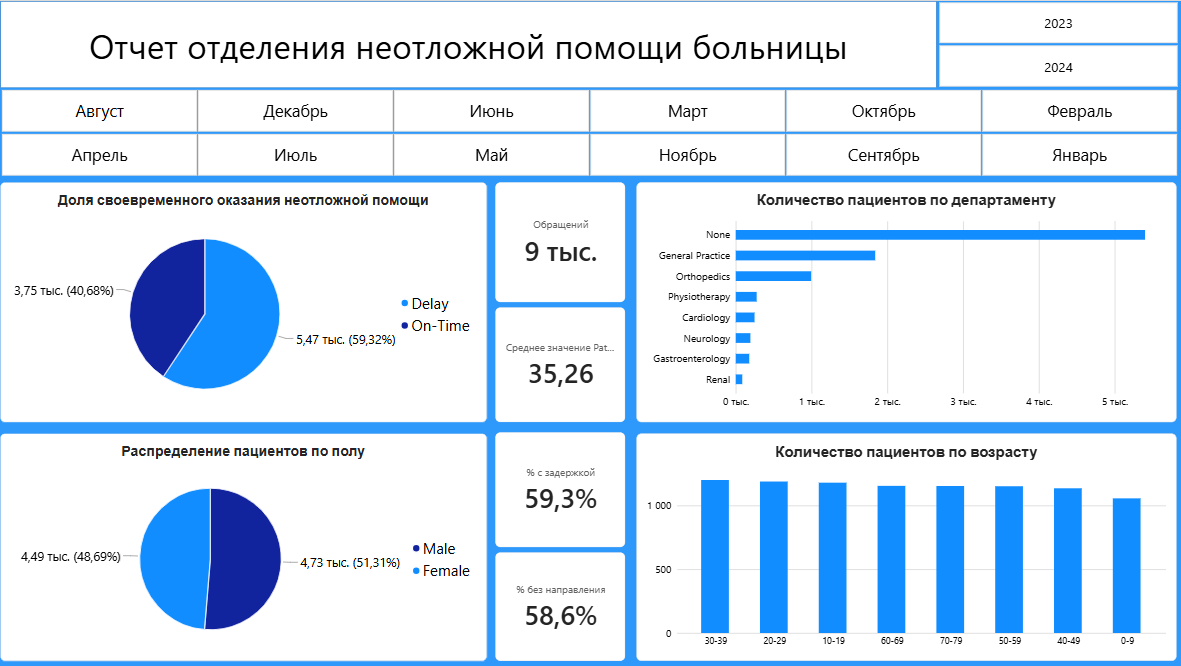

Layout of this report page (visuals, bound fields, positions):
{"tool":"powerbi","page":{"name":"Страница 1","canvas":[1920,1080],"ordinal":0},"visuals":[{"type":"slicer","title":"Год","fields":{"Values":["Календарь.Год"]},"box":[1500.3,0,420.5,138.9],"z":0},{"type":"slicer","fields":{"Values":["Календарь.Месяц"]},"box":[0,139.3,1920.1,141.2],"z":1000},{"type":"pieChart","title":"Доля своевременного оказания неотложной помощи","fields":{"Category":["Hospital_ER_Data.Patient Attend Status"],"Y":["CountNonNull(Hospital_ER_Data.Patient Attend Status)"]},"box":[18,290,778,384],"z":2000},{"type":"shape","box":[18.1,0,1498.4,139.3],"z":3000},{"type":"pieChart","title":"Распределение пациентов по полу","fields":{"Category":["Hospital_ER_Data.Patient Gender"],"Y":["CountNonNull(Hospital_ER_Data.Patient Gender)"]},"box":[18,692,778,364],"z":4000},{"type":"clusteredBarChart","title":"Количество пациентов по департаменту","fields":{"Category":["Hospital_ER_Data.Department Referral"],"Y":["CountNonNull(Hospital_ER_Data.Patient Id)"]},"box":[1036,290,864,384],"z":5000},{"type":"clusteredColumnChart","title":"Количество пациентов по возрасту","fields":{"Category":["Hospital_ER_Data.Group Age"],"Y":["CountNonNull(Hospital_ER_Data.Patient Id)"]},"box":[1036,692,864,364],"z":6000},{"type":"cardVisual","fields":{"Data":["Hospital_ER_Data.Обращений"]},"box":[810,290,208,192],"z":9001},{"type":"cardVisual","fields":{"Data":["Avg(Hospital_ER_Data.Patient Waittime)"]},"box":[810,490,208,184],"z":9002},{"type":"cardVisual","fields":{"Data":["Hospital_ER_Data.% с задержкой"]},"box":[810,690,208,184],"z":9003},{"type":"cardVisual","fields":{"Data":["Hospital_ER_Data.% без направления"]},"box":[810,882,208,174],"z":9004}]}

Visuals, with their boxes in screenshot pixels (x1, y1, x2, y2), scaled from the page's 1920x1080 canvas onto the 1181x666 screenshot:
"Год" slicer: box(923, 0, 1180, 86)
slicer - Календарь.Месяц: box(0, 86, 1180, 173)
"Доля своевременного оказания неотложной помощи" pieChart: box(11, 179, 490, 416)
shape: box(11, 0, 933, 86)
"Распределение пациентов по полу" pieChart: box(11, 427, 490, 651)
"Количество пациентов по департаменту" clusteredBarChart: box(637, 179, 1169, 416)
"Количество пациентов по возрасту" clusteredColumnChart: box(637, 427, 1169, 651)
cardVisual - Hospital_ER_Data.Обращений: box(498, 179, 626, 297)
cardVisual - Avg(Hospital_ER_Data.Patient Waittime): box(498, 302, 626, 416)
cardVisual - Hospital_ER_Data.% с задержкой: box(498, 426, 626, 539)
cardVisual - Hospital_ER_Data.% без направления: box(498, 544, 626, 651)
